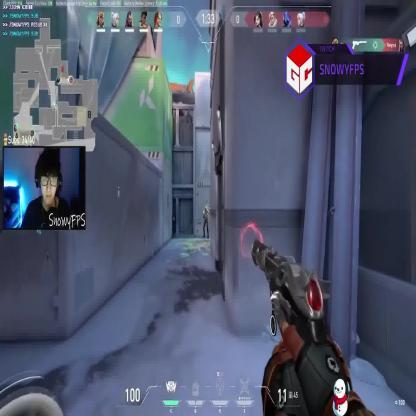enemy: (202, 204, 209, 238)
enemy_head: (204, 206, 207, 210)
